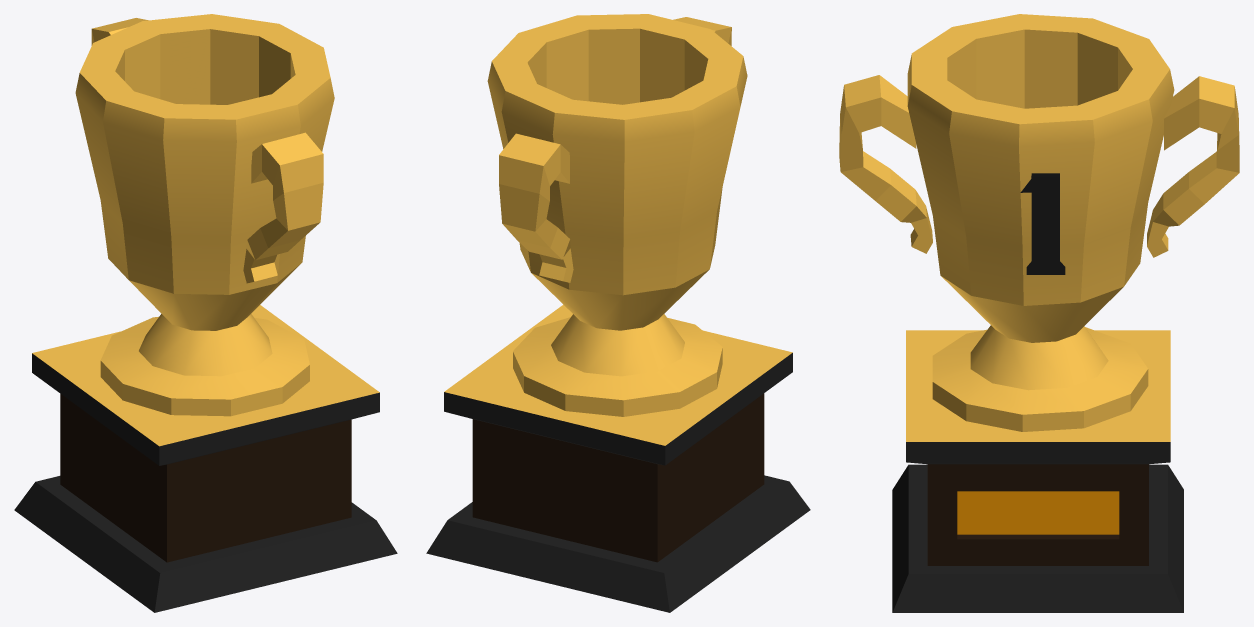
The model's file is trophy.glb.
3 views of the same model, side by side, from view 1: azimuth 30°, elevation 25°; view 2: azimuth 150°, elevation 25°; view 3: azimuth 270°, elevation 25° (orthographic). The views are drawn at different scales.
Parts seen in each view (by area): view 1: Cube; view 2: Cube; view 3: Cube.
Part boxes in pixels (x1,y1,x2,y2): Cube: (14,14,397,612); Cube: (426,14,810,612); Cube: (839,14,1239,612).
Bounding box in the file's own units: 2 × 3.65 × 2.75.
1 material, 1 textured.
